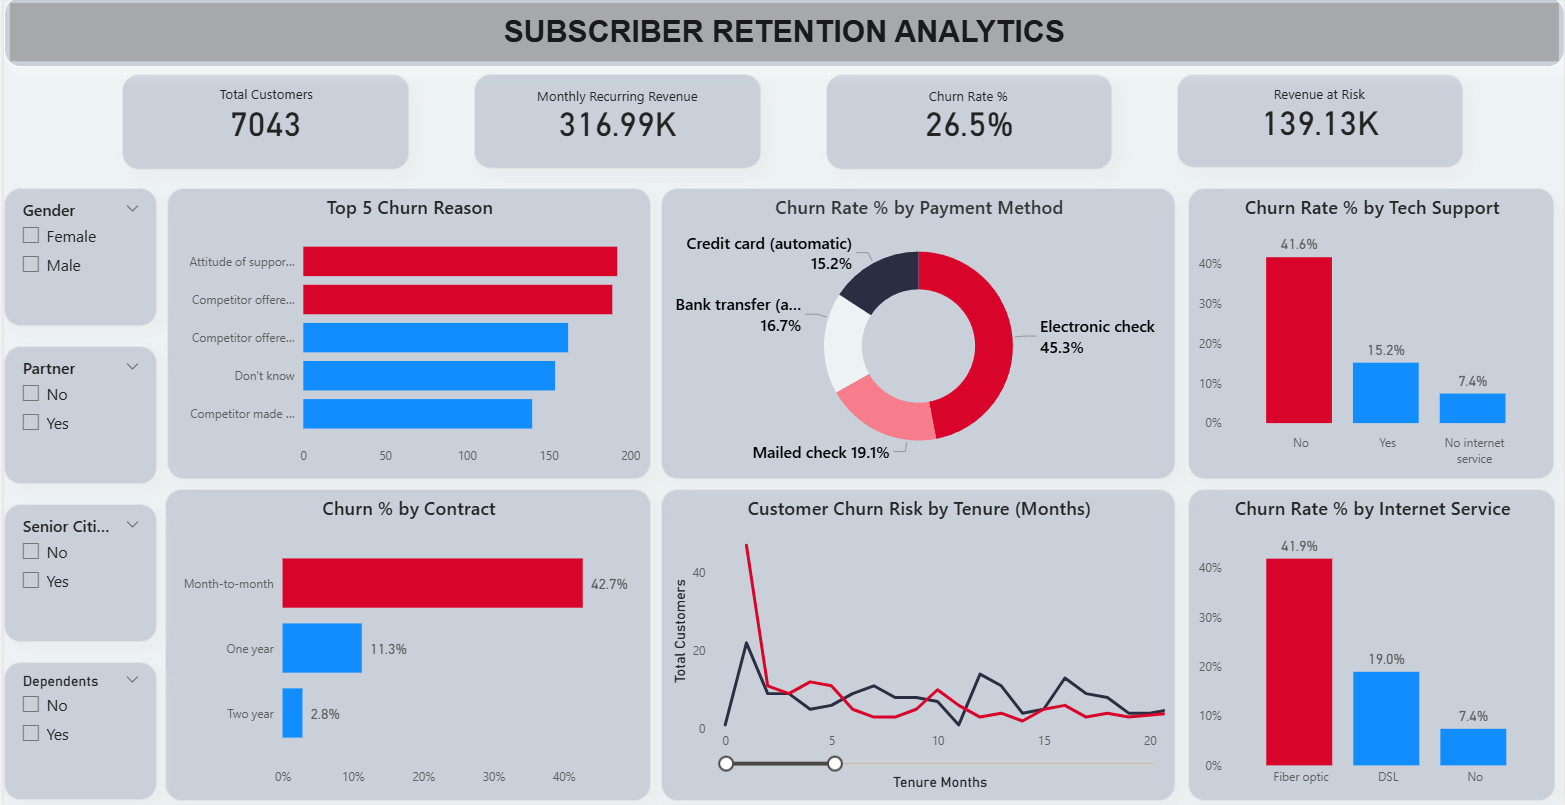

The dashboard page shown, as its layout file describes it:
{"tool":"powerbi","page":{"name":"Page 1","canvas":[1580,820],"ordinal":0},"visuals":[{"type":"card","title":"Churn Rate %","fields":{"Values":["telecom_churn_clean.Churn Rate %"]},"box":[690.6,76.2,290,97.5],"z":0},{"type":"card","fields":{"Values":["telecom_churn_clean.Revenue at Risk"]},"box":[1041.2,78.8,290,95],"z":1000},{"type":"card","fields":{"Values":["telecom_churn_clean.Total Customers"]},"box":[340,76.2,290,97.5],"z":2000},{"type":"clusteredBarChart","title":"Top 5 Churn Reason","fields":{"Category":["telecom_churn_clean.Churn Reason"],"Y":["CountNonNull(telecom_churn_clean.CustomerID)"]},"box":[165,193.8,490,295],"z":3000},{"type":"clusteredBarChart","title":"Churn % by Contract","fields":{"Y":["telecom_churn_clean.Churn Rate %"],"Category":["telecom_churn_clean.Contract"]},"box":[163.3,498.3,492.2,315.8],"z":4000},{"type":"columnChart","fields":{"Category":["telecom_churn_clean.Internet Service"],"Y":["telecom_churn_clean.Churn Rate %"]},"box":[1198.2,498.3,372.2,315.8],"z":5000},{"type":"shape","title":"dsasdsdsdsd","box":[0,0,1580,71.2],"z":6000},{"type":"slicer","fields":{"Values":["telecom_churn_clean.Gender"]},"box":[0,193.8,155,140],"z":7000},{"type":"slicer","fields":{"Values":["telecom_churn_clean.Partner"]},"box":[0,353.7,155,140],"z":8000},{"type":"slicer","fields":{"Values":["telecom_churn_clean.Senior Citizen"]},"box":[0.1,513.6,155,140],"z":9000},{"type":"lineChart","title":"Customer Churn Risk by Tenure (Months)","fields":{"Category":["telecom_churn_clean.Tenure Months"],"Y":["CountNonNull(telecom_churn_clean.CustomerID)"],"Series":["telecom_churn_clean.Churn Label"]},"box":[665.1,498.3,521.1,315.8],"z":10000},{"type":"slicer","fields":{"Values":["telecom_churn_clean.Dependents"]},"box":[0.1,673.5,154.9,140],"z":11000},{"type":"donutChart","fields":{"Y":["telecom_churn_clean.Churn Rate %"],"Category":["telecom_churn_clean.Payment Method"]},"box":[665,193.8,521.2,295],"z":12000},{"type":"clusteredColumnChart","title":"Churn Rate % by Tech Support","fields":{"Category":["telecom_churn_clean.Tech Support"],"Y":["telecom_churn_clean.Churn Rate %"]},"box":[1198.8,193.8,371.2,295],"z":13000},{"type":"textbox","box":[745,86.2,178.8,40],"z":14001},{"type":"textbox","box":[1096.2,86.2,178.8,40],"z":14002},{"type":"textbox","box":[395,86.2,178.8,40],"z":14003}]}

Visuals, with their boxes in screenshot pixels (x1, y1, x2, y2), scaled from the page's 1580x820 canvas onto the 1565x805 screenshot:
"Churn Rate %" card: pyautogui.locateOnScreen(684, 75, 971, 171)
card - telecom_churn_clean.Revenue at Risk: pyautogui.locateOnScreen(1031, 77, 1319, 171)
card - telecom_churn_clean.Total Customers: pyautogui.locateOnScreen(337, 75, 624, 171)
"Top 5 Churn Reason" clusteredBarChart: pyautogui.locateOnScreen(163, 190, 649, 480)
"Churn % by Contract" clusteredBarChart: pyautogui.locateOnScreen(162, 489, 649, 799)
columnChart - telecom_churn_clean.Internet Service x telecom_churn_clean.Churn Rate %: pyautogui.locateOnScreen(1187, 489, 1555, 799)
"dsasdsdsdsd" shape: pyautogui.locateOnScreen(0, 0, 1564, 70)
slicer - telecom_churn_clean.Gender: pyautogui.locateOnScreen(0, 190, 154, 328)
slicer - telecom_churn_clean.Partner: pyautogui.locateOnScreen(0, 347, 154, 485)
slicer - telecom_churn_clean.Senior Citizen: pyautogui.locateOnScreen(0, 504, 154, 642)
"Customer Churn Risk by Tenure (Months)" lineChart: pyautogui.locateOnScreen(659, 489, 1175, 799)
slicer - telecom_churn_clean.Dependents: pyautogui.locateOnScreen(0, 661, 154, 799)
donutChart - telecom_churn_clean.Churn Rate % x telecom_churn_clean.Payment Method: pyautogui.locateOnScreen(659, 190, 1175, 480)
"Churn Rate % by Tech Support" clusteredColumnChart: pyautogui.locateOnScreen(1187, 190, 1555, 480)
textbox: pyautogui.locateOnScreen(738, 85, 915, 124)
textbox: pyautogui.locateOnScreen(1086, 85, 1263, 124)
textbox: pyautogui.locateOnScreen(391, 85, 568, 124)
